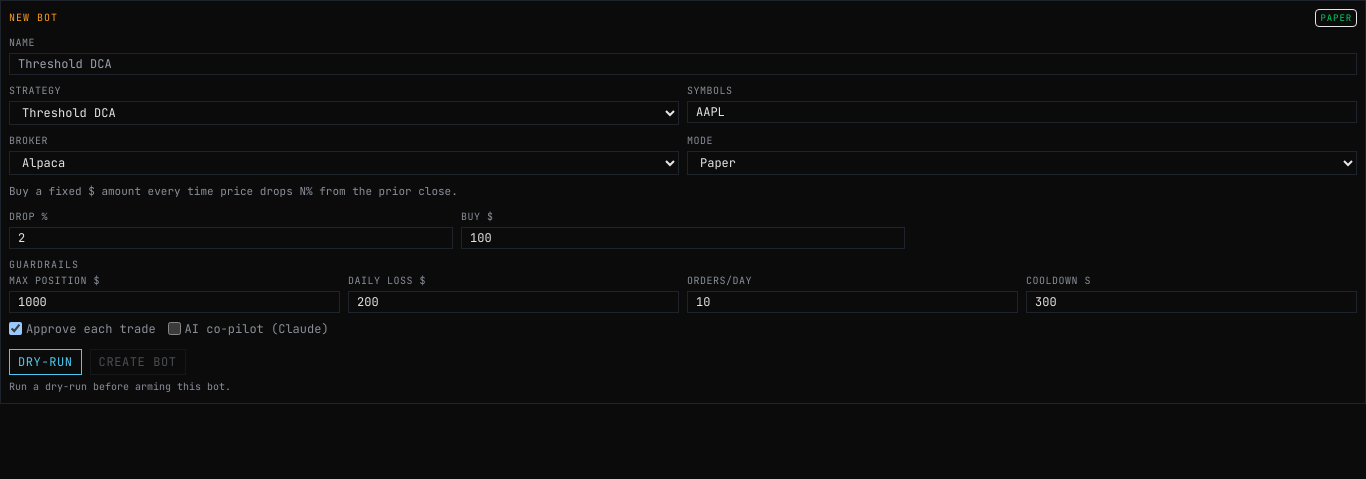
Scenario: <BotBuilder> › runs a dry-run and posts the strategy config to /backtest
Step 1. Click the button "Dry-run" → (45, 362), box x1=9 y1=349 x2=82 y2=375
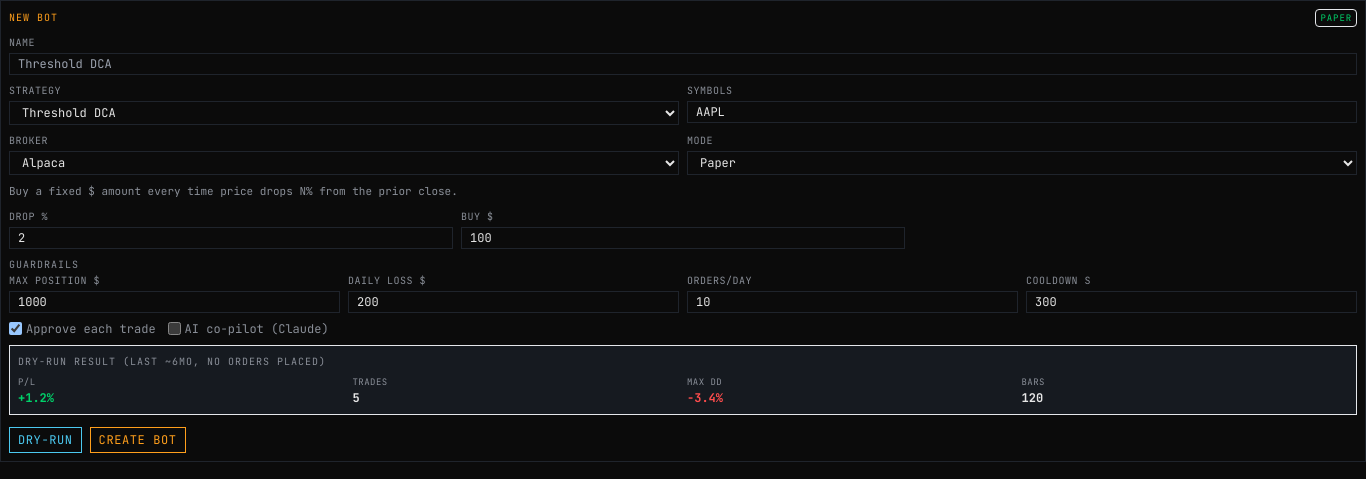
Result: the text "+1.2%" is shown at x1=18 y1=390 x2=54 y2=406
Result: the button "Create bot" is enabled at x1=90 y1=427 x2=186 y2=453
